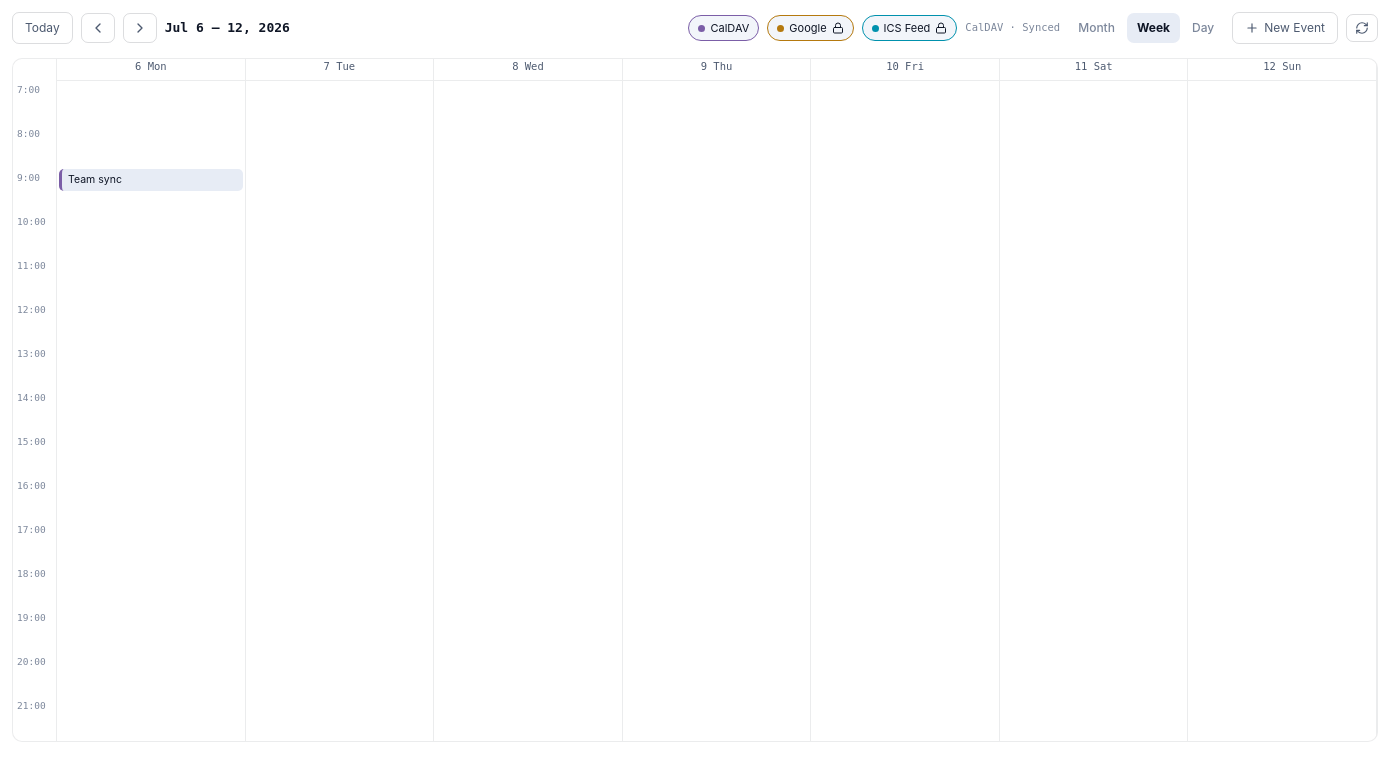
CalendarPanel — 4 states + view switch + source chips + drawer › view switch: clicking Month renders the 42-cell month grid
Check: the button "Team sync" is shown, box [59,169,243,191]
Click the button "Month": click(1097, 28) [1068,13,1125,43]
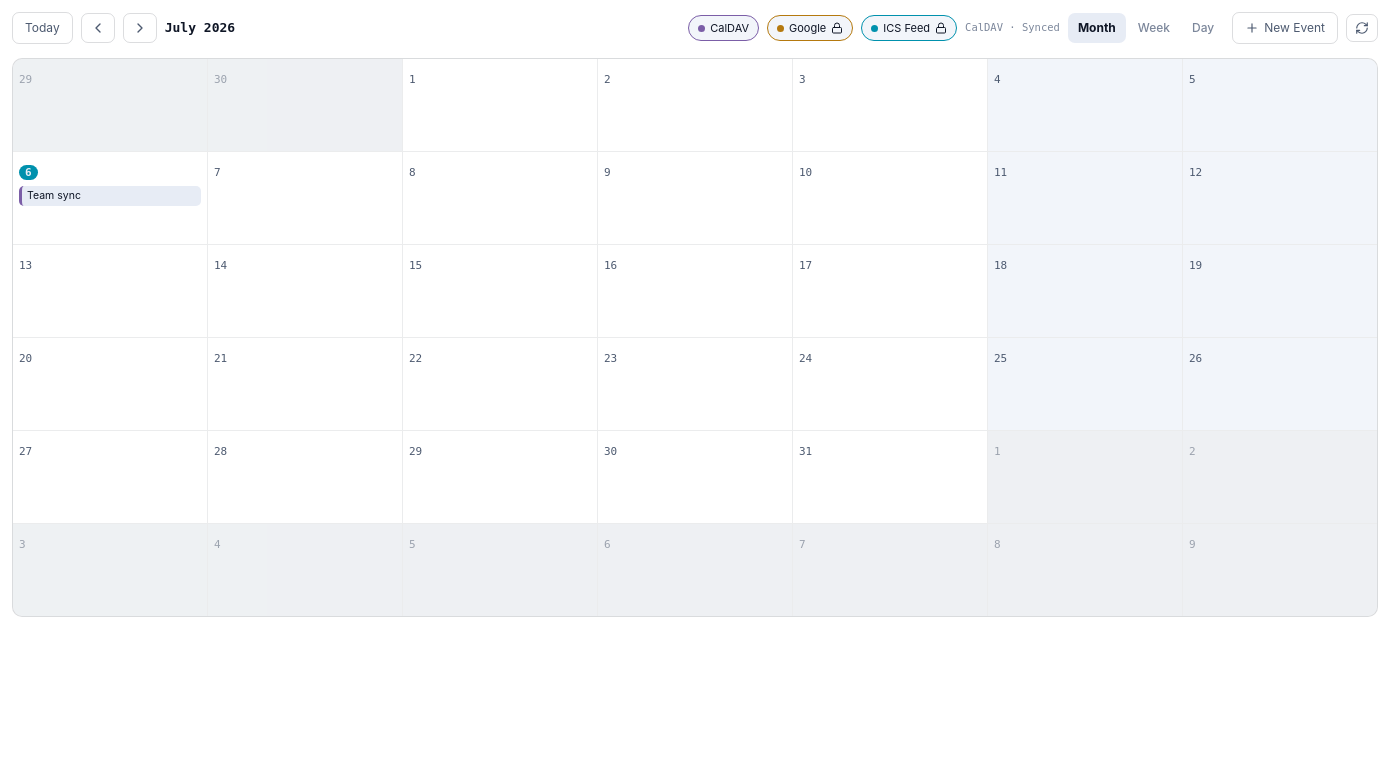
Check: the table named "month-grid" is shown
Check: the number of cells is 42
